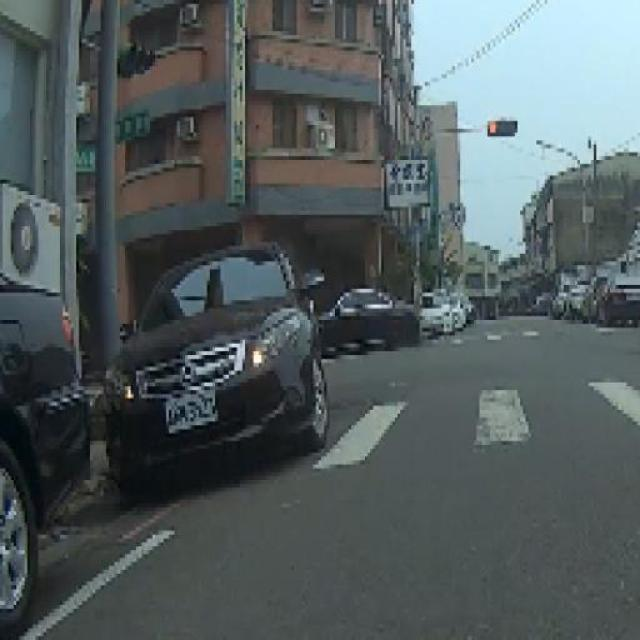illegalparking: (71, 199, 356, 526)
